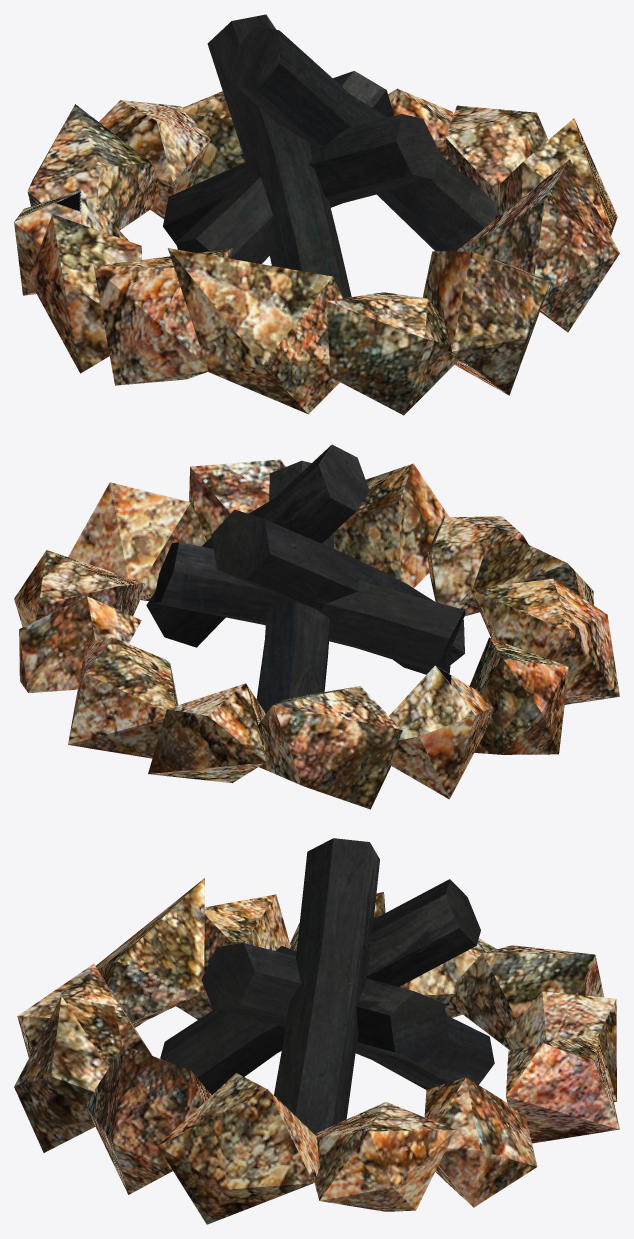
File: Campfire_1.fbx
The picture shows the model from 3 angles, top to bottom: view 1: azimuth 30°, elevation 25°; view 2: azimuth 150°, elevation 25°; view 3: azimuth 270°, elevation 25°; orthographic projection. The views are drawn at different scales.
Parts seen in each view (by area): view 1: Campfire; view 2: Campfire; view 3: Campfire.
Part boxes in pixels (x1,y1,x2,y2): Campfire: (14, 14, 619, 415); Campfire: (14, 444, 619, 809); Campfire: (14, 838, 619, 1224).
Bounding box in the file's own units: 8.75 × 4.39 × 8.77.
Materials: 1 (1 with a texture image).
